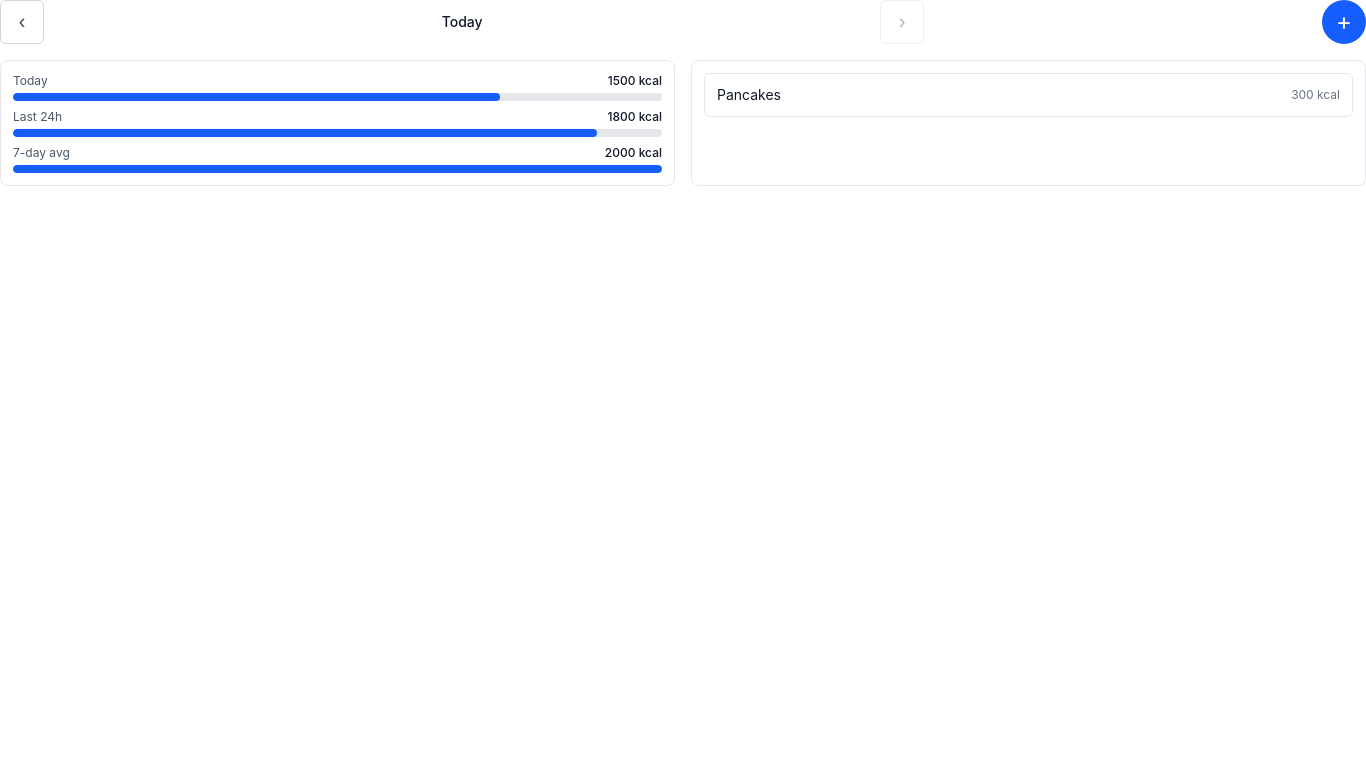
Scenario: Diary › 010-005 T10: editing a logged recipe entry keeps its own serving unit label
This screenshot has width=1366, height=768.
Later steps or results of the test are not shown.
What coordinates should you click on to do the following:
click the text "Pancakes"
I would click on:
 (749, 95)
Its box is top-left (717, 85), bottom-right (781, 105).
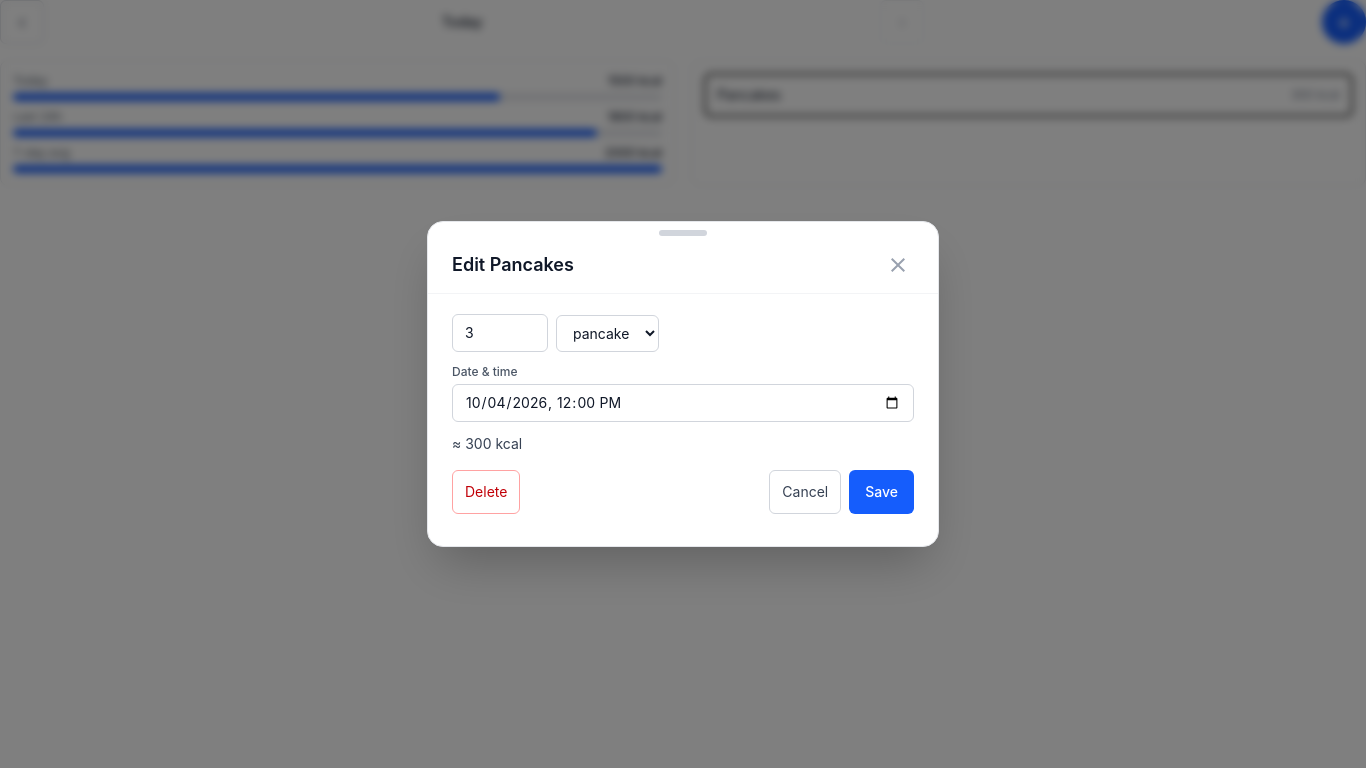
Expected: the dropdown named "Unit" shows "pancake", top-left (556, 315), bottom-right (659, 352)
